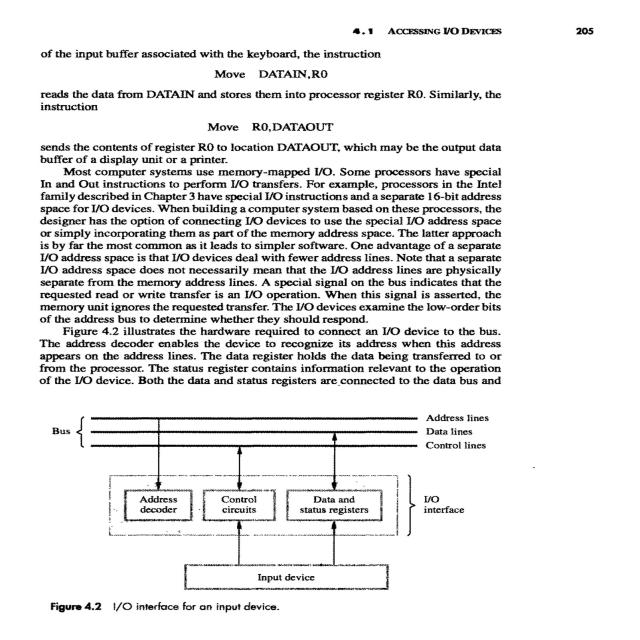diagram: (5, 403, 597, 628), (639, 484, 640, 523)
